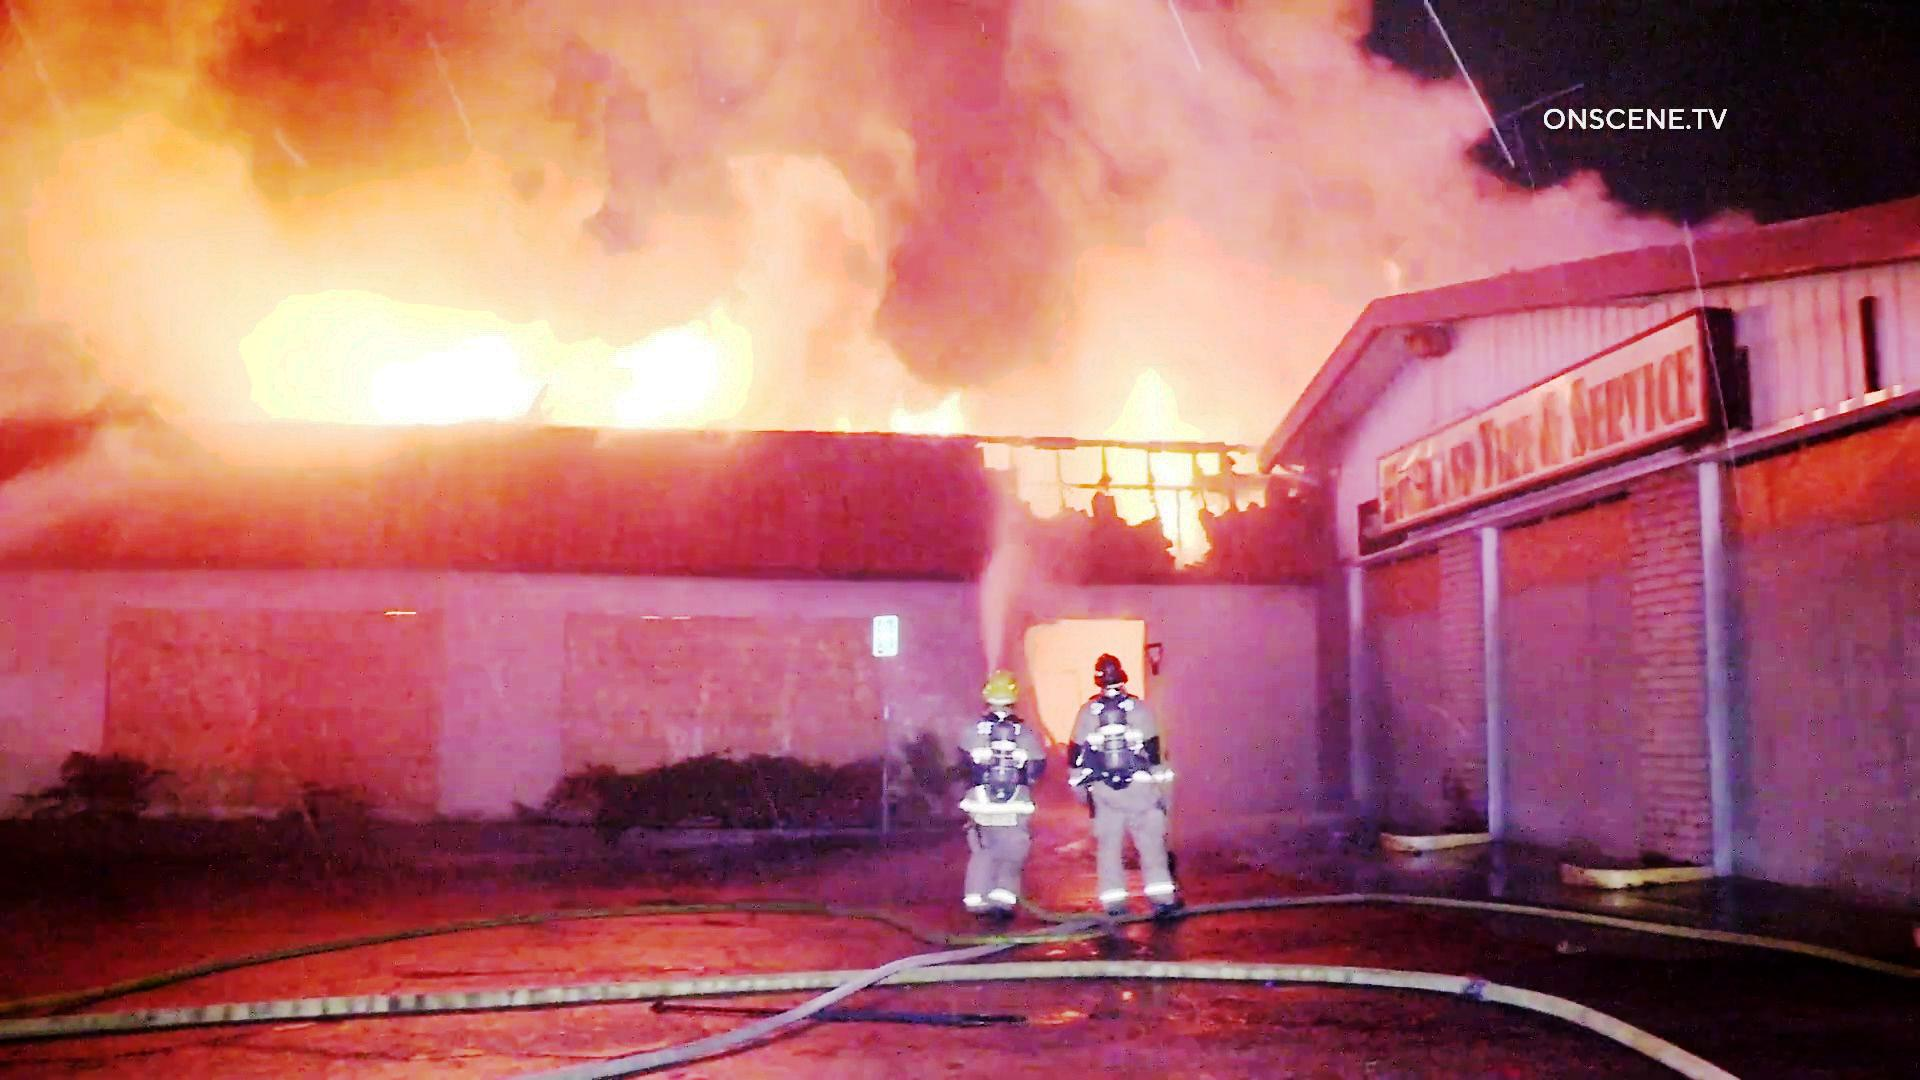fire: (306, 295, 753, 426), (1081, 385, 1233, 505)
smoke: (0, 0, 1185, 245)
